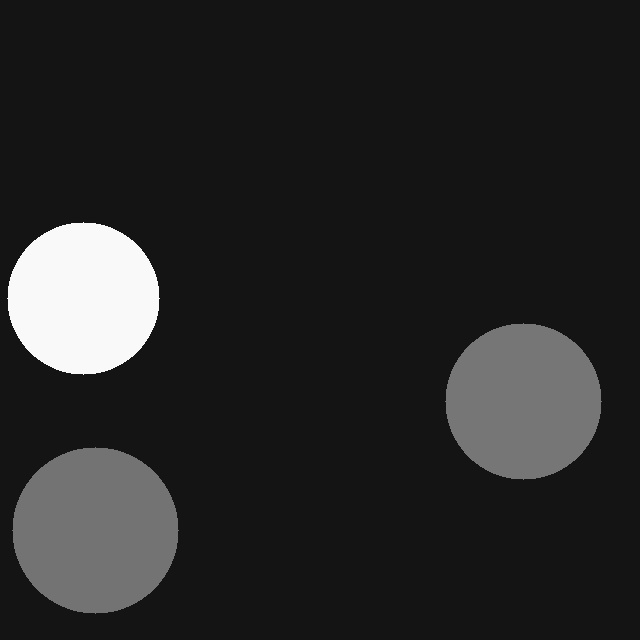circle: (12, 447, 178, 613), (445, 323, 601, 479), (7, 222, 159, 374)
